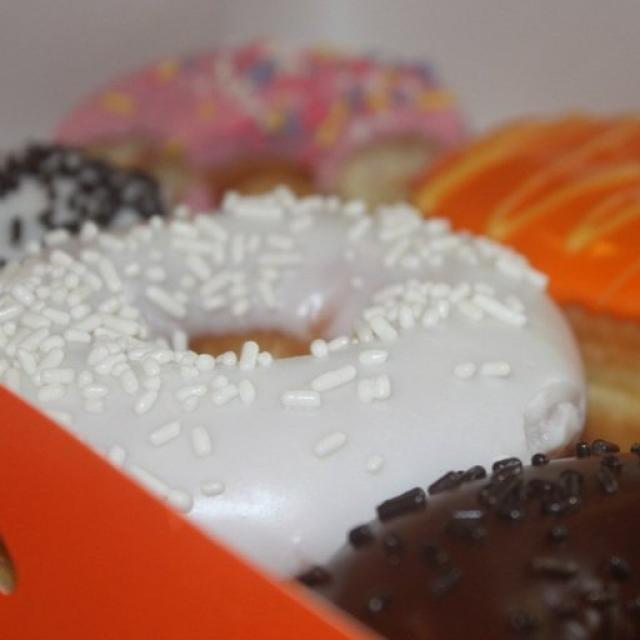Donuts: (4, 37, 640, 640)
